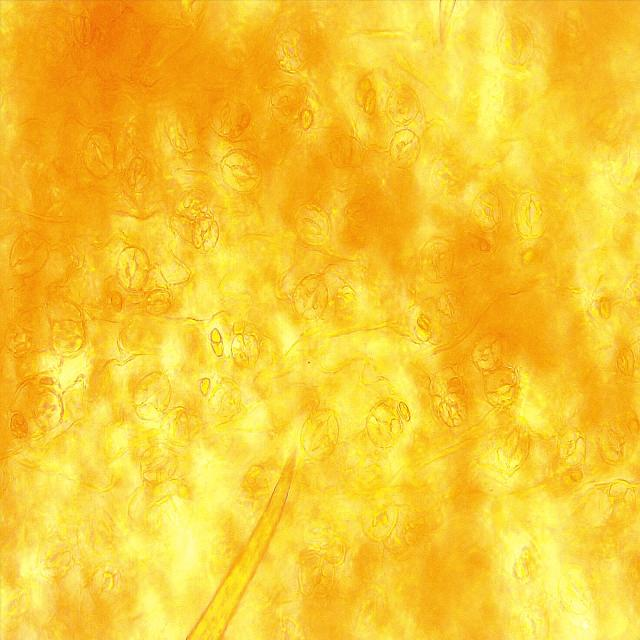Stomata: (300, 407, 340, 462), (495, 415, 531, 473), (132, 371, 172, 422), (9, 231, 49, 280), (556, 564, 592, 617), (360, 493, 398, 542), (297, 553, 336, 600), (292, 273, 329, 321), (498, 18, 534, 67), (81, 129, 116, 179), (165, 104, 201, 152), (220, 150, 260, 193), (600, 481, 638, 526), (365, 403, 401, 450), (114, 245, 150, 292), (513, 190, 548, 238), (597, 420, 635, 464), (140, 442, 178, 486), (208, 96, 243, 140), (386, 83, 421, 127), (483, 365, 518, 409), (420, 237, 452, 284), (37, 536, 71, 580), (609, 141, 640, 189), (274, 30, 308, 73), (208, 377, 242, 420), (90, 562, 122, 606), (296, 204, 330, 245), (388, 128, 421, 170), (470, 188, 503, 230), (35, 24, 68, 66), (268, 84, 301, 125), (435, 290, 466, 331), (556, 429, 587, 470), (472, 332, 503, 372), (518, 603, 550, 640), (230, 332, 262, 369), (76, 517, 106, 556), (51, 319, 84, 354), (34, 391, 64, 429), (192, 216, 219, 255), (438, 393, 467, 429)
